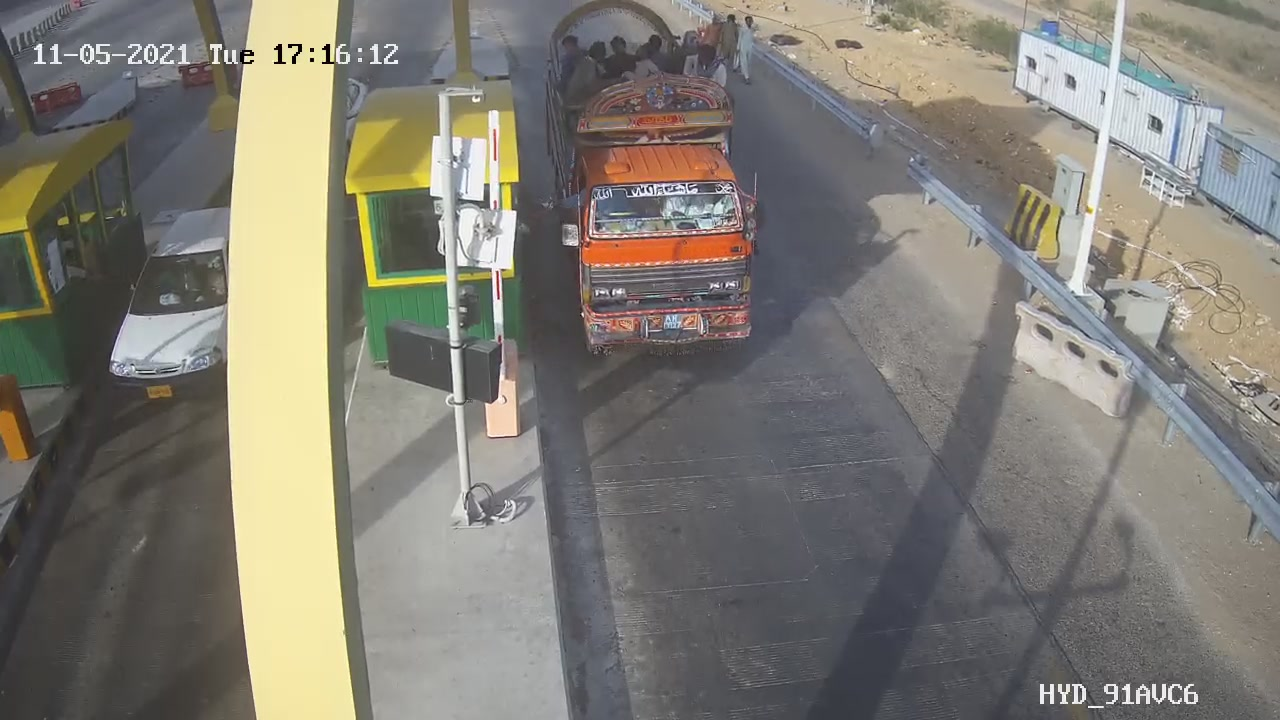F5: (533, 1, 769, 373)
